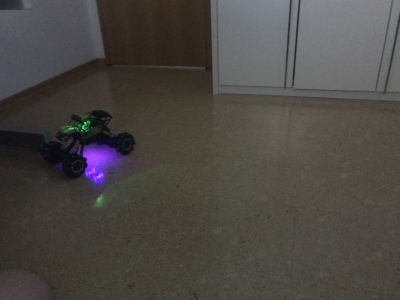remote control car: (38, 104, 139, 180)
